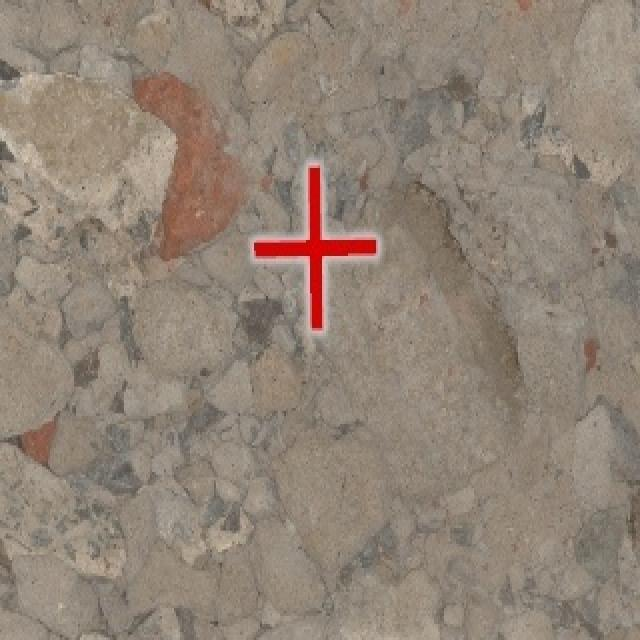x_marker: (253, 164, 377, 329)
